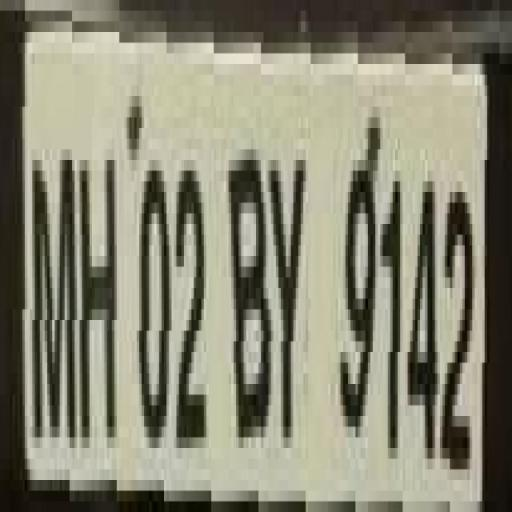number plate: (0, 21, 490, 512)
